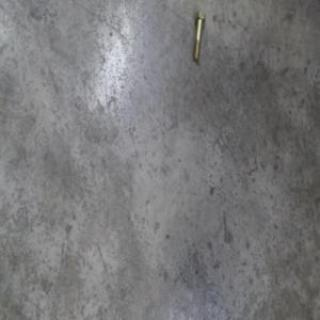Bolttrack_idkeyframe: (191, 11, 206, 62)
